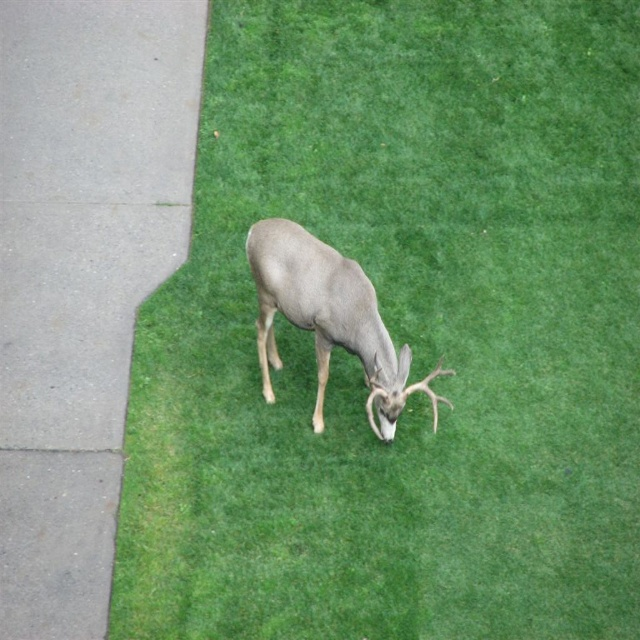Deer: (245, 219, 458, 443)
